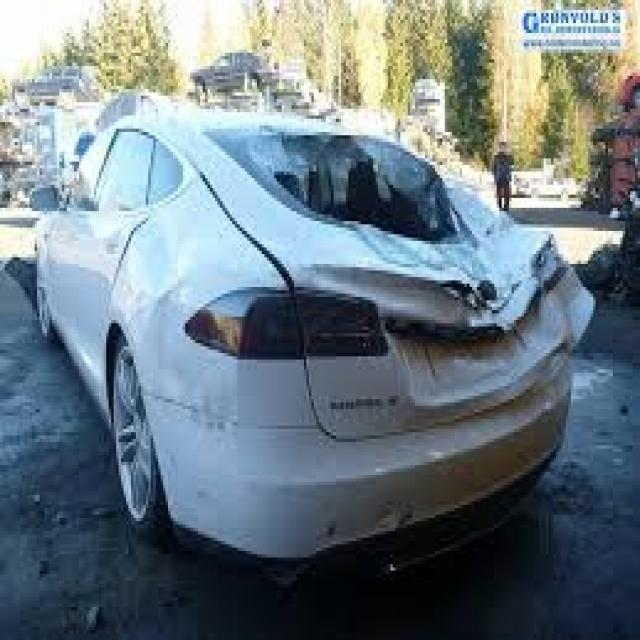moderate: (266, 92, 604, 455)
